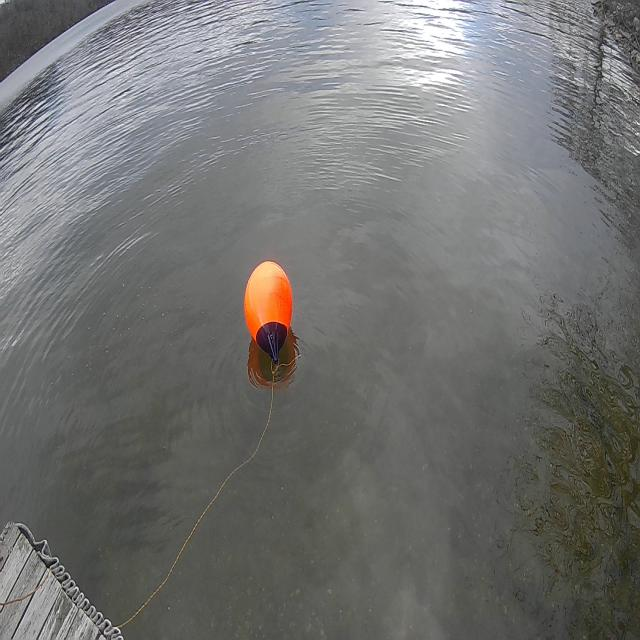Buoy: (240, 250, 300, 368)
